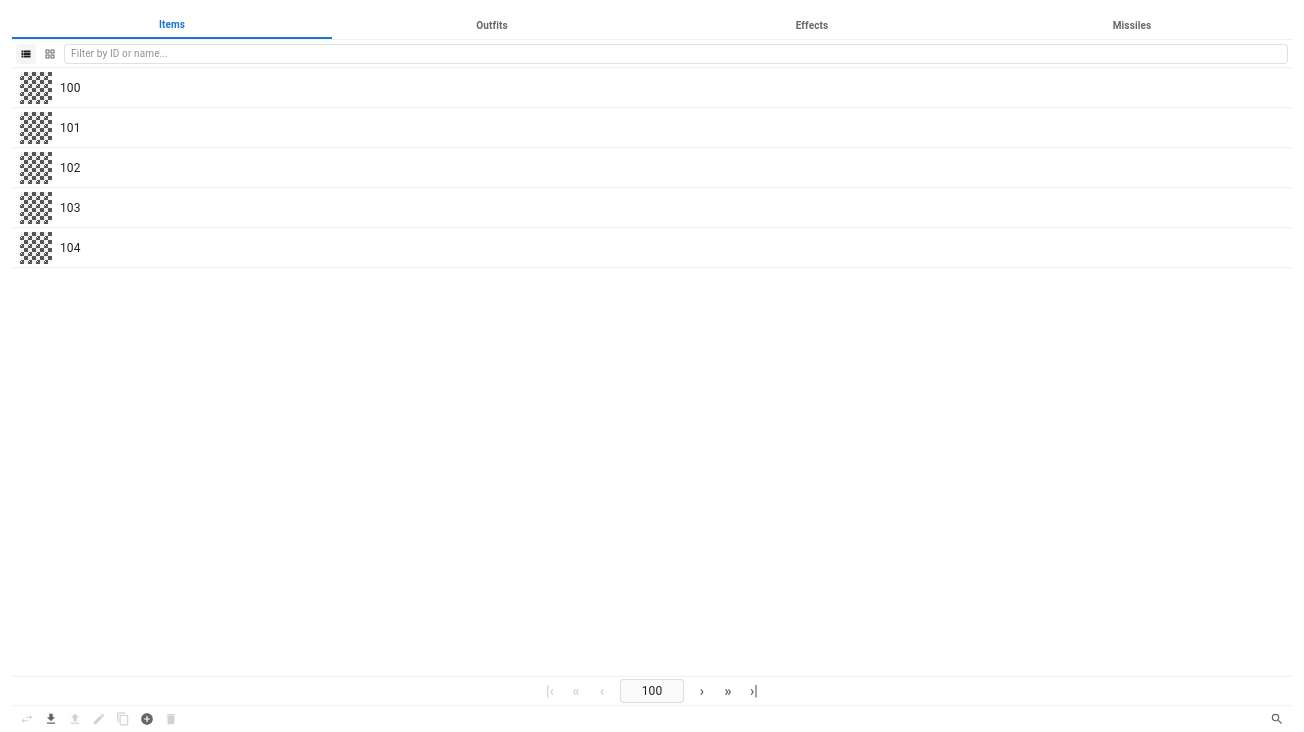
Test case: ThingListPanel › search and filter › filters by ID
The width and height of the screenshot is (1304, 732).
Type "102" into the field with test id "thing-search-input".
click(676, 54); type("102")  # box [64,44,1288,64]
Wait 200 ms
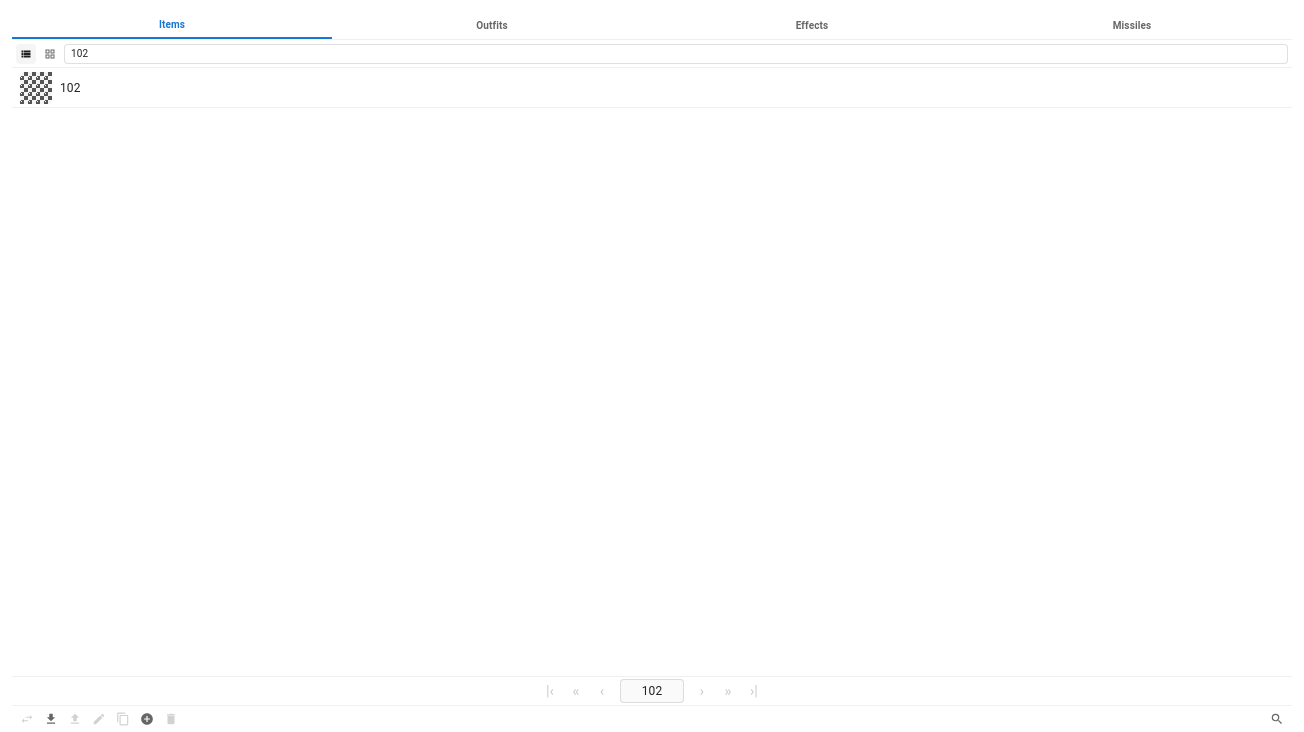
expect the element with test id "thing-list-item-102" is shown: met, box [12,68,1292,108]
expect the element with test id "thing-list-item-100" is gone: met
